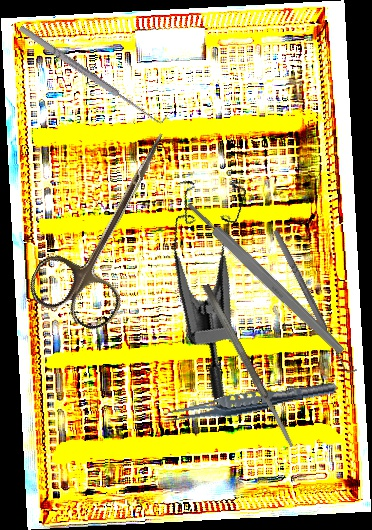Hook Surgical: (16, 18, 169, 129), (270, 225, 358, 378)
Iris Scissors: (22, 110, 199, 338)
Scalpel Handle: (184, 198, 347, 357)
Spatula Surgical: (201, 282, 296, 450)
Speculum: (135, 161, 312, 401)
Tissue Forceps: (158, 374, 339, 431)
